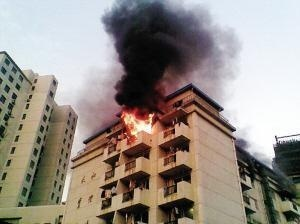fire: (120, 108, 153, 134)
